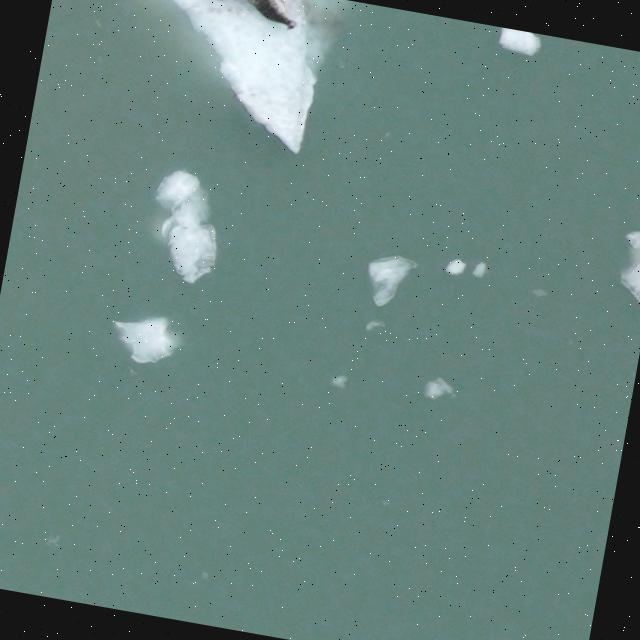seal: (233, 0, 304, 35)
